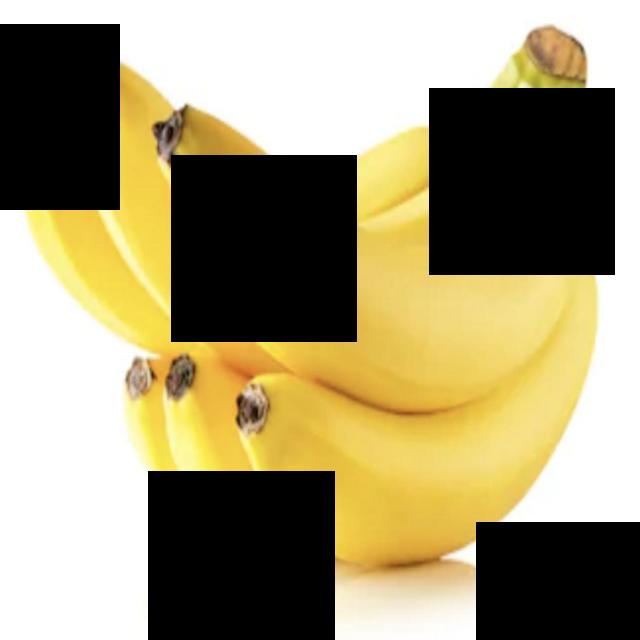banana: (135, 5, 633, 437)
